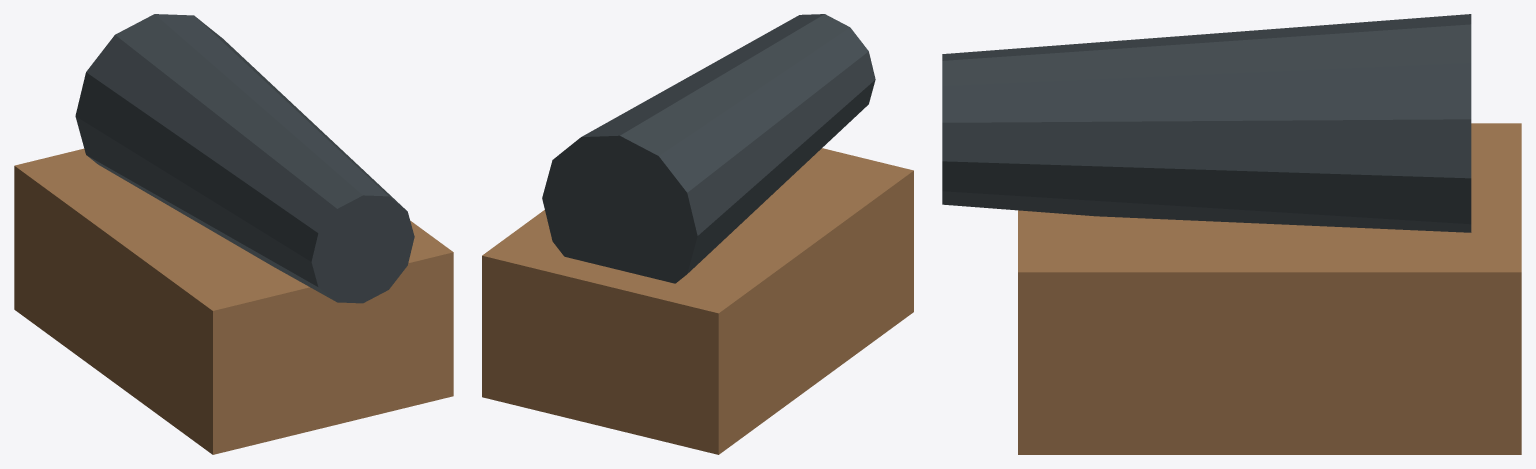
The model's file is cannon.glb.
3 renders of one model, left to right at view 1: azimuth 30°, elevation 25°; view 2: azimuth 150°, elevation 25°; view 3: azimuth 270°, elevation 25°, orthographic. The views are drawn at different scales.
Visible parts, largest first — view 1: cannon; view 2: cannon; view 3: cannon.
Boxes of the visible parts, bbox=[...] form: cannon: bbox=[14, 14, 453, 454]; cannon: bbox=[482, 14, 913, 454]; cannon: bbox=[942, 14, 1521, 454].
Bounding box in the file's own units: 0.7 × 0.78 × 1.15.
